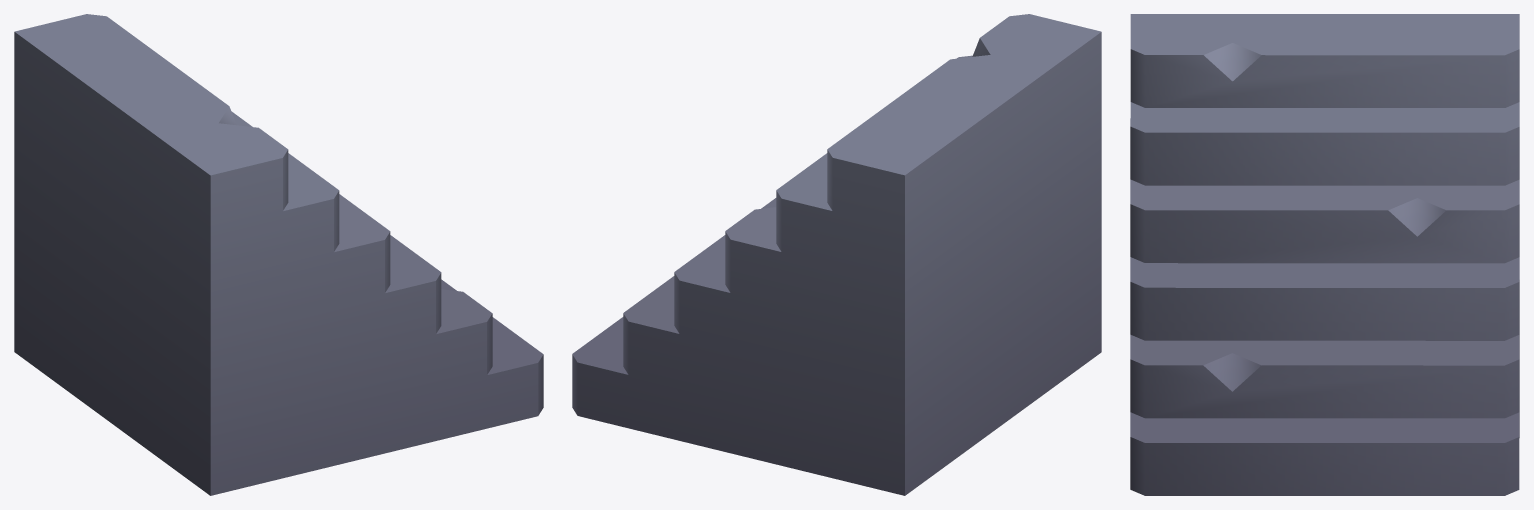
Rendered from stairs.003_lev5.glb.
3 views of the same model, side by side, from view 1: azimuth 30°, elevation 25°; view 2: azimuth 150°, elevation 25°; view 3: azimuth 270°, elevation 25° (orthographic).
Visible parts, largest first — view 1: stairs.003_lev5; view 2: stairs.003_lev5; view 3: stairs.003_lev5.
Boxes of the visible parts, x1,y1,x2,y2 form: stairs.003_lev5: (14,14,543,495); stairs.003_lev5: (572,14,1101,495); stairs.003_lev5: (1130,14,1519,495).
Bounding box in the file's own units: 4 × 3.6 × 4.
1 material, 1 textured.
